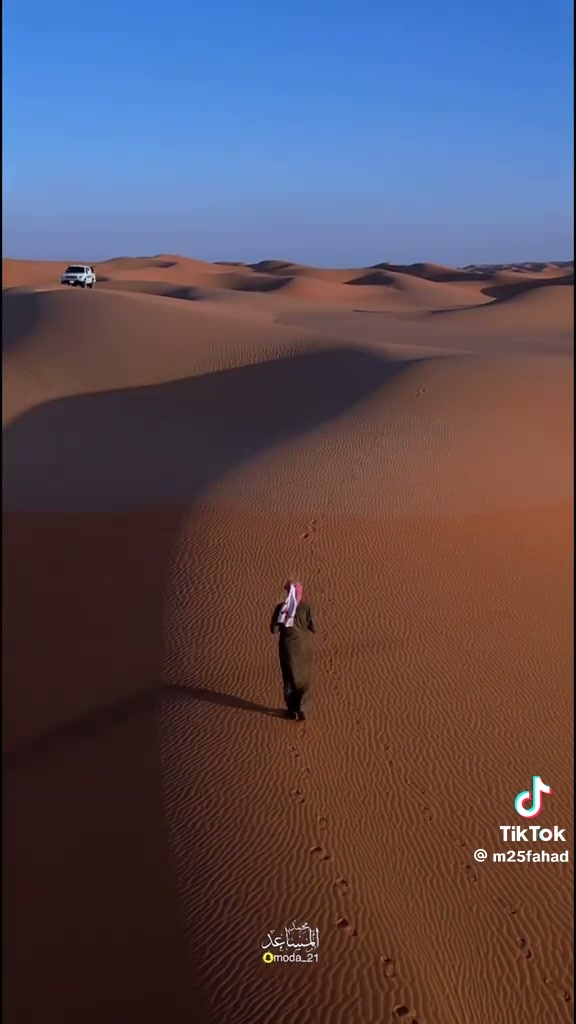human: (271, 581, 314, 720)
human_foot_print: (338, 920, 386, 945), (385, 945, 418, 979), (300, 838, 336, 867), (510, 925, 540, 958), (340, 860, 361, 906), (473, 858, 499, 892), (393, 1005, 431, 1024), (285, 788, 320, 806), (310, 808, 327, 831)
